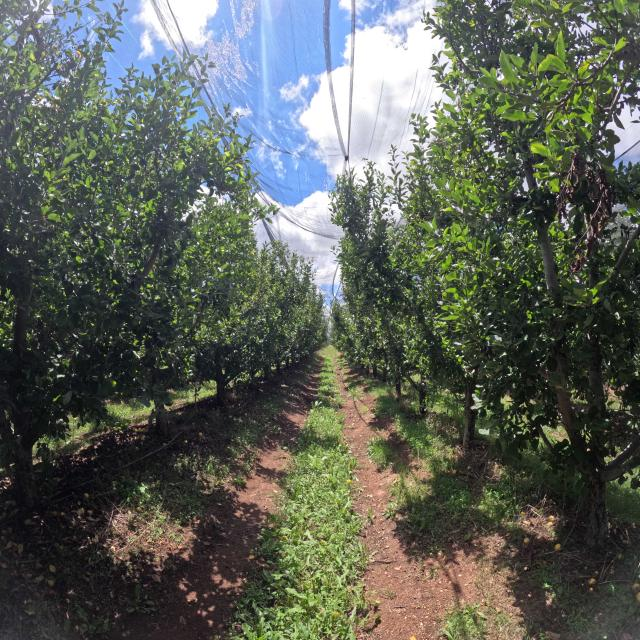-FireBlight-: (555, 130, 613, 273)
